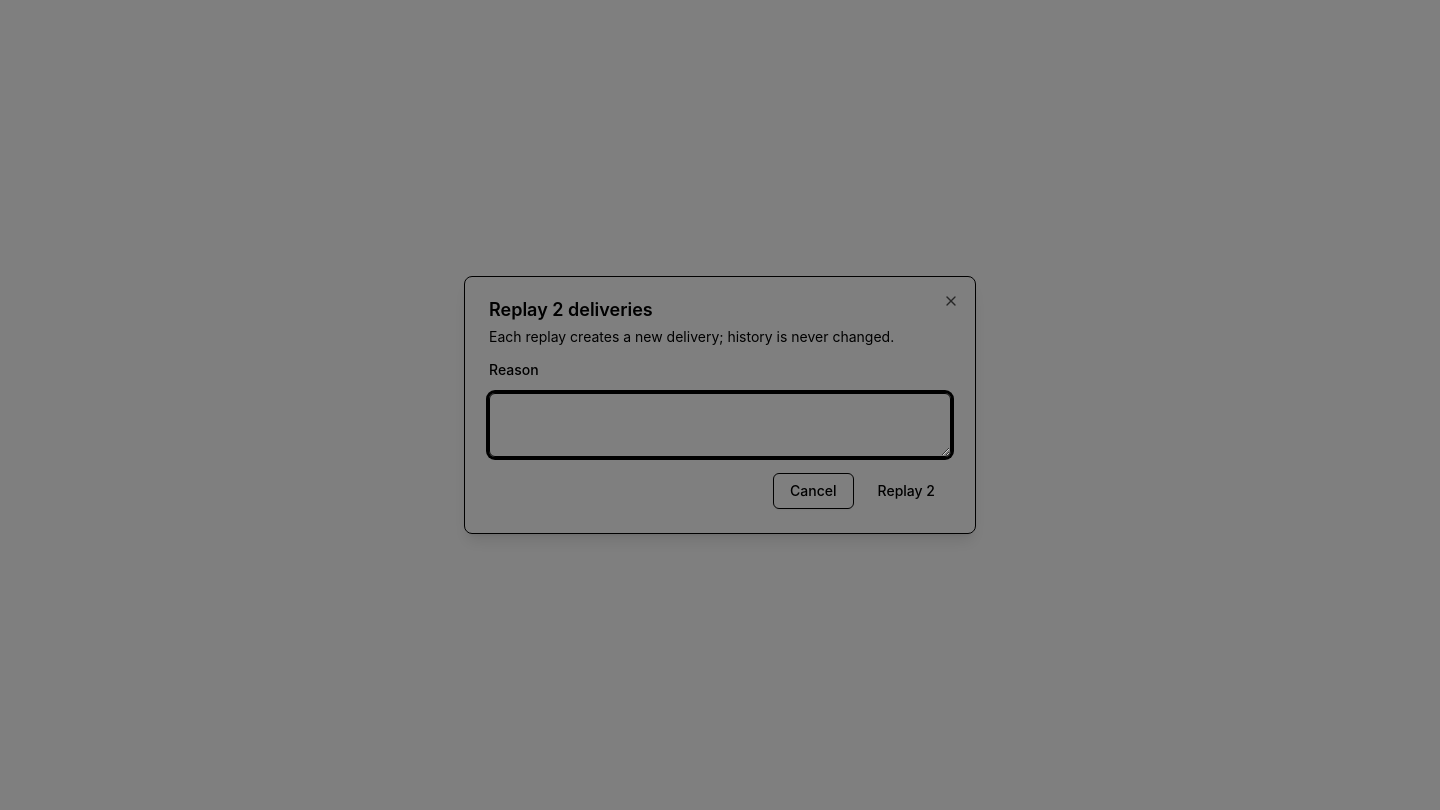
Test: ReplayDialog › shows replayed, skipped, and the not-enqueued note
Type "backend fixed" into the text box labelled "Reason" at (720, 425), box x1=489 y1=393 x2=951 y2=457
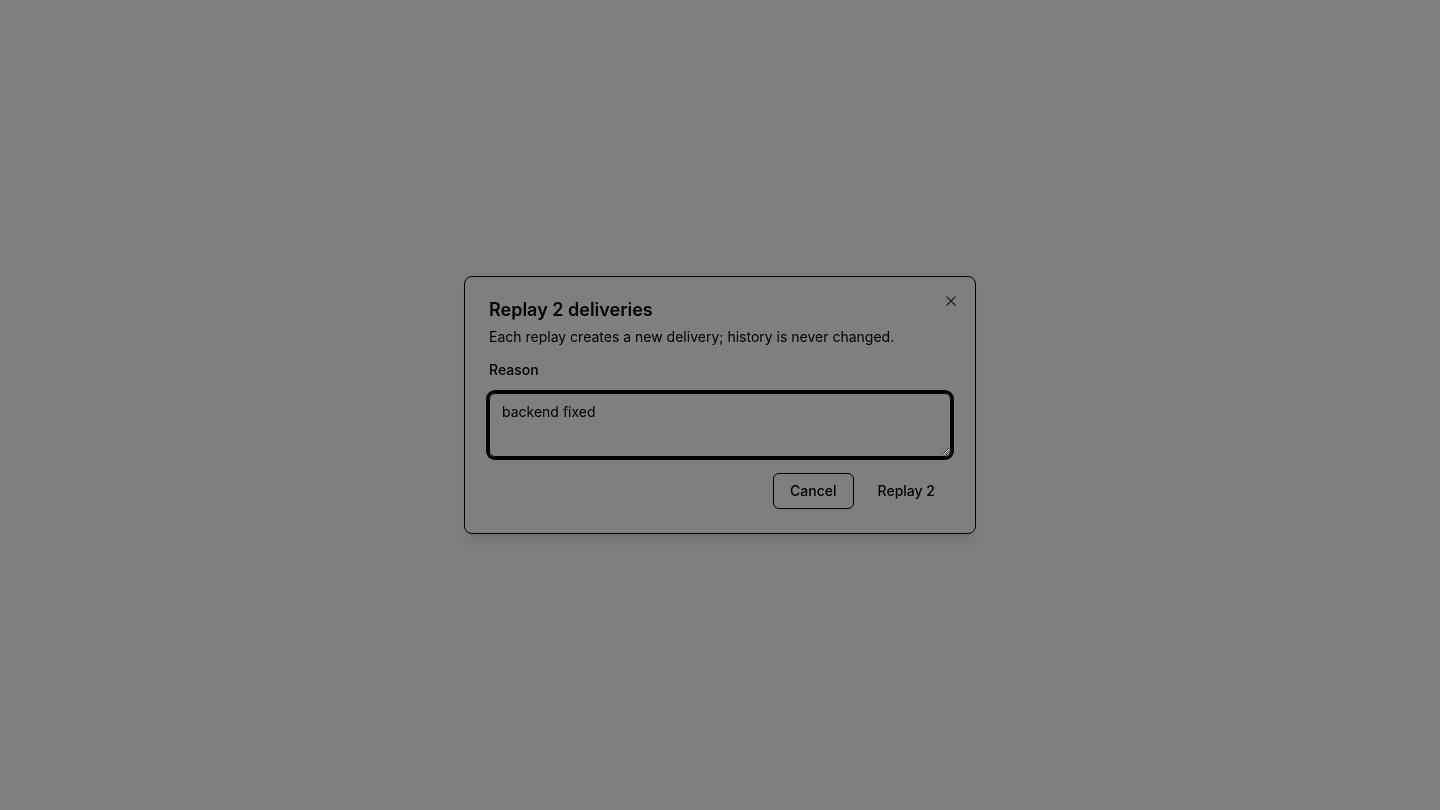
Click the button "Replay 2" at (906, 491), box x1=862 y1=473 x2=951 y2=509
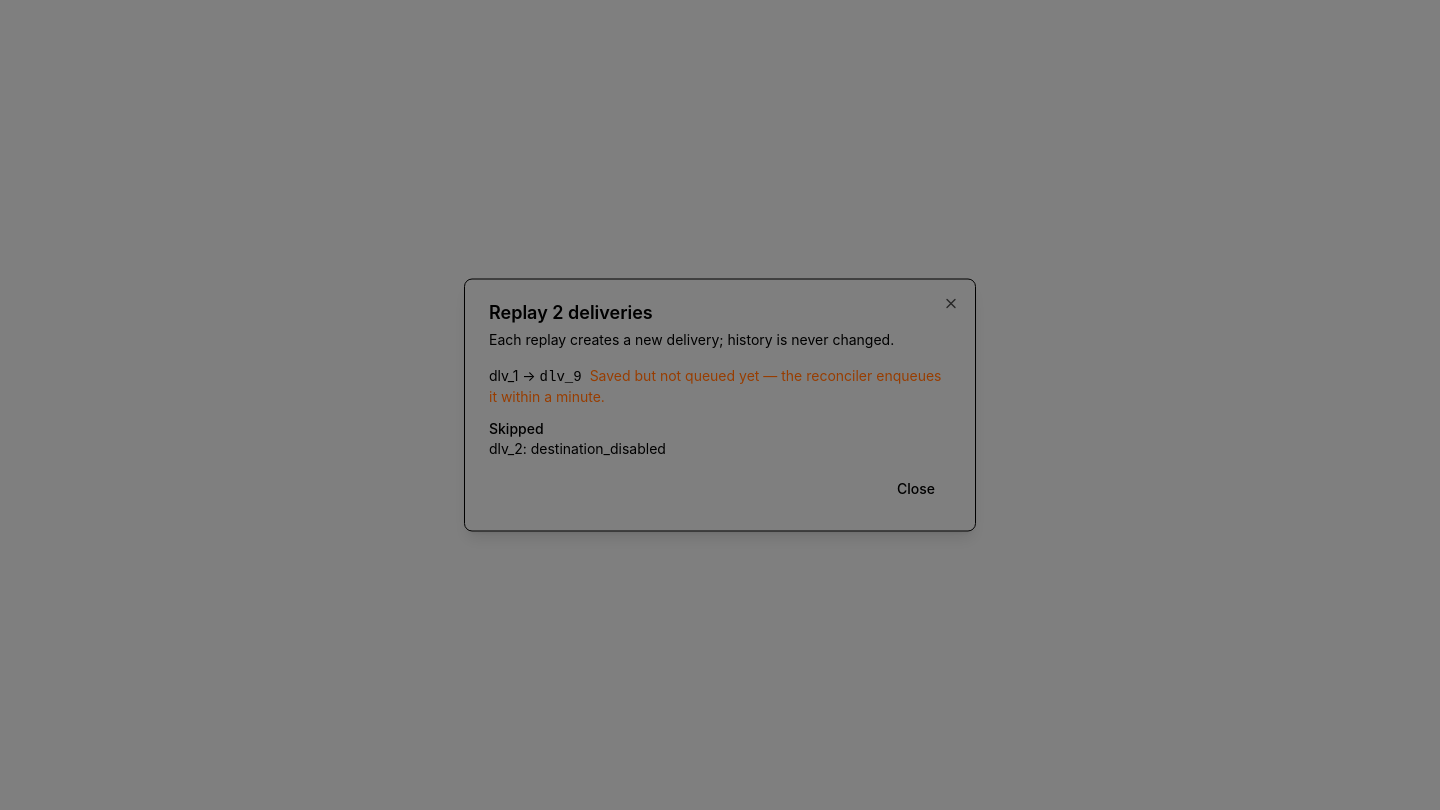
Check: the text "dlv_9" is shown, box x1=540 y1=368 x2=582 y2=384
Check: the list item "dlv_2: destination_disabled" is shown, box x1=489 y1=440 x2=666 y2=456
Check: the text "reconciler enqueues it within a minute" is shown, box x1=489 y1=366 x2=942 y2=404
